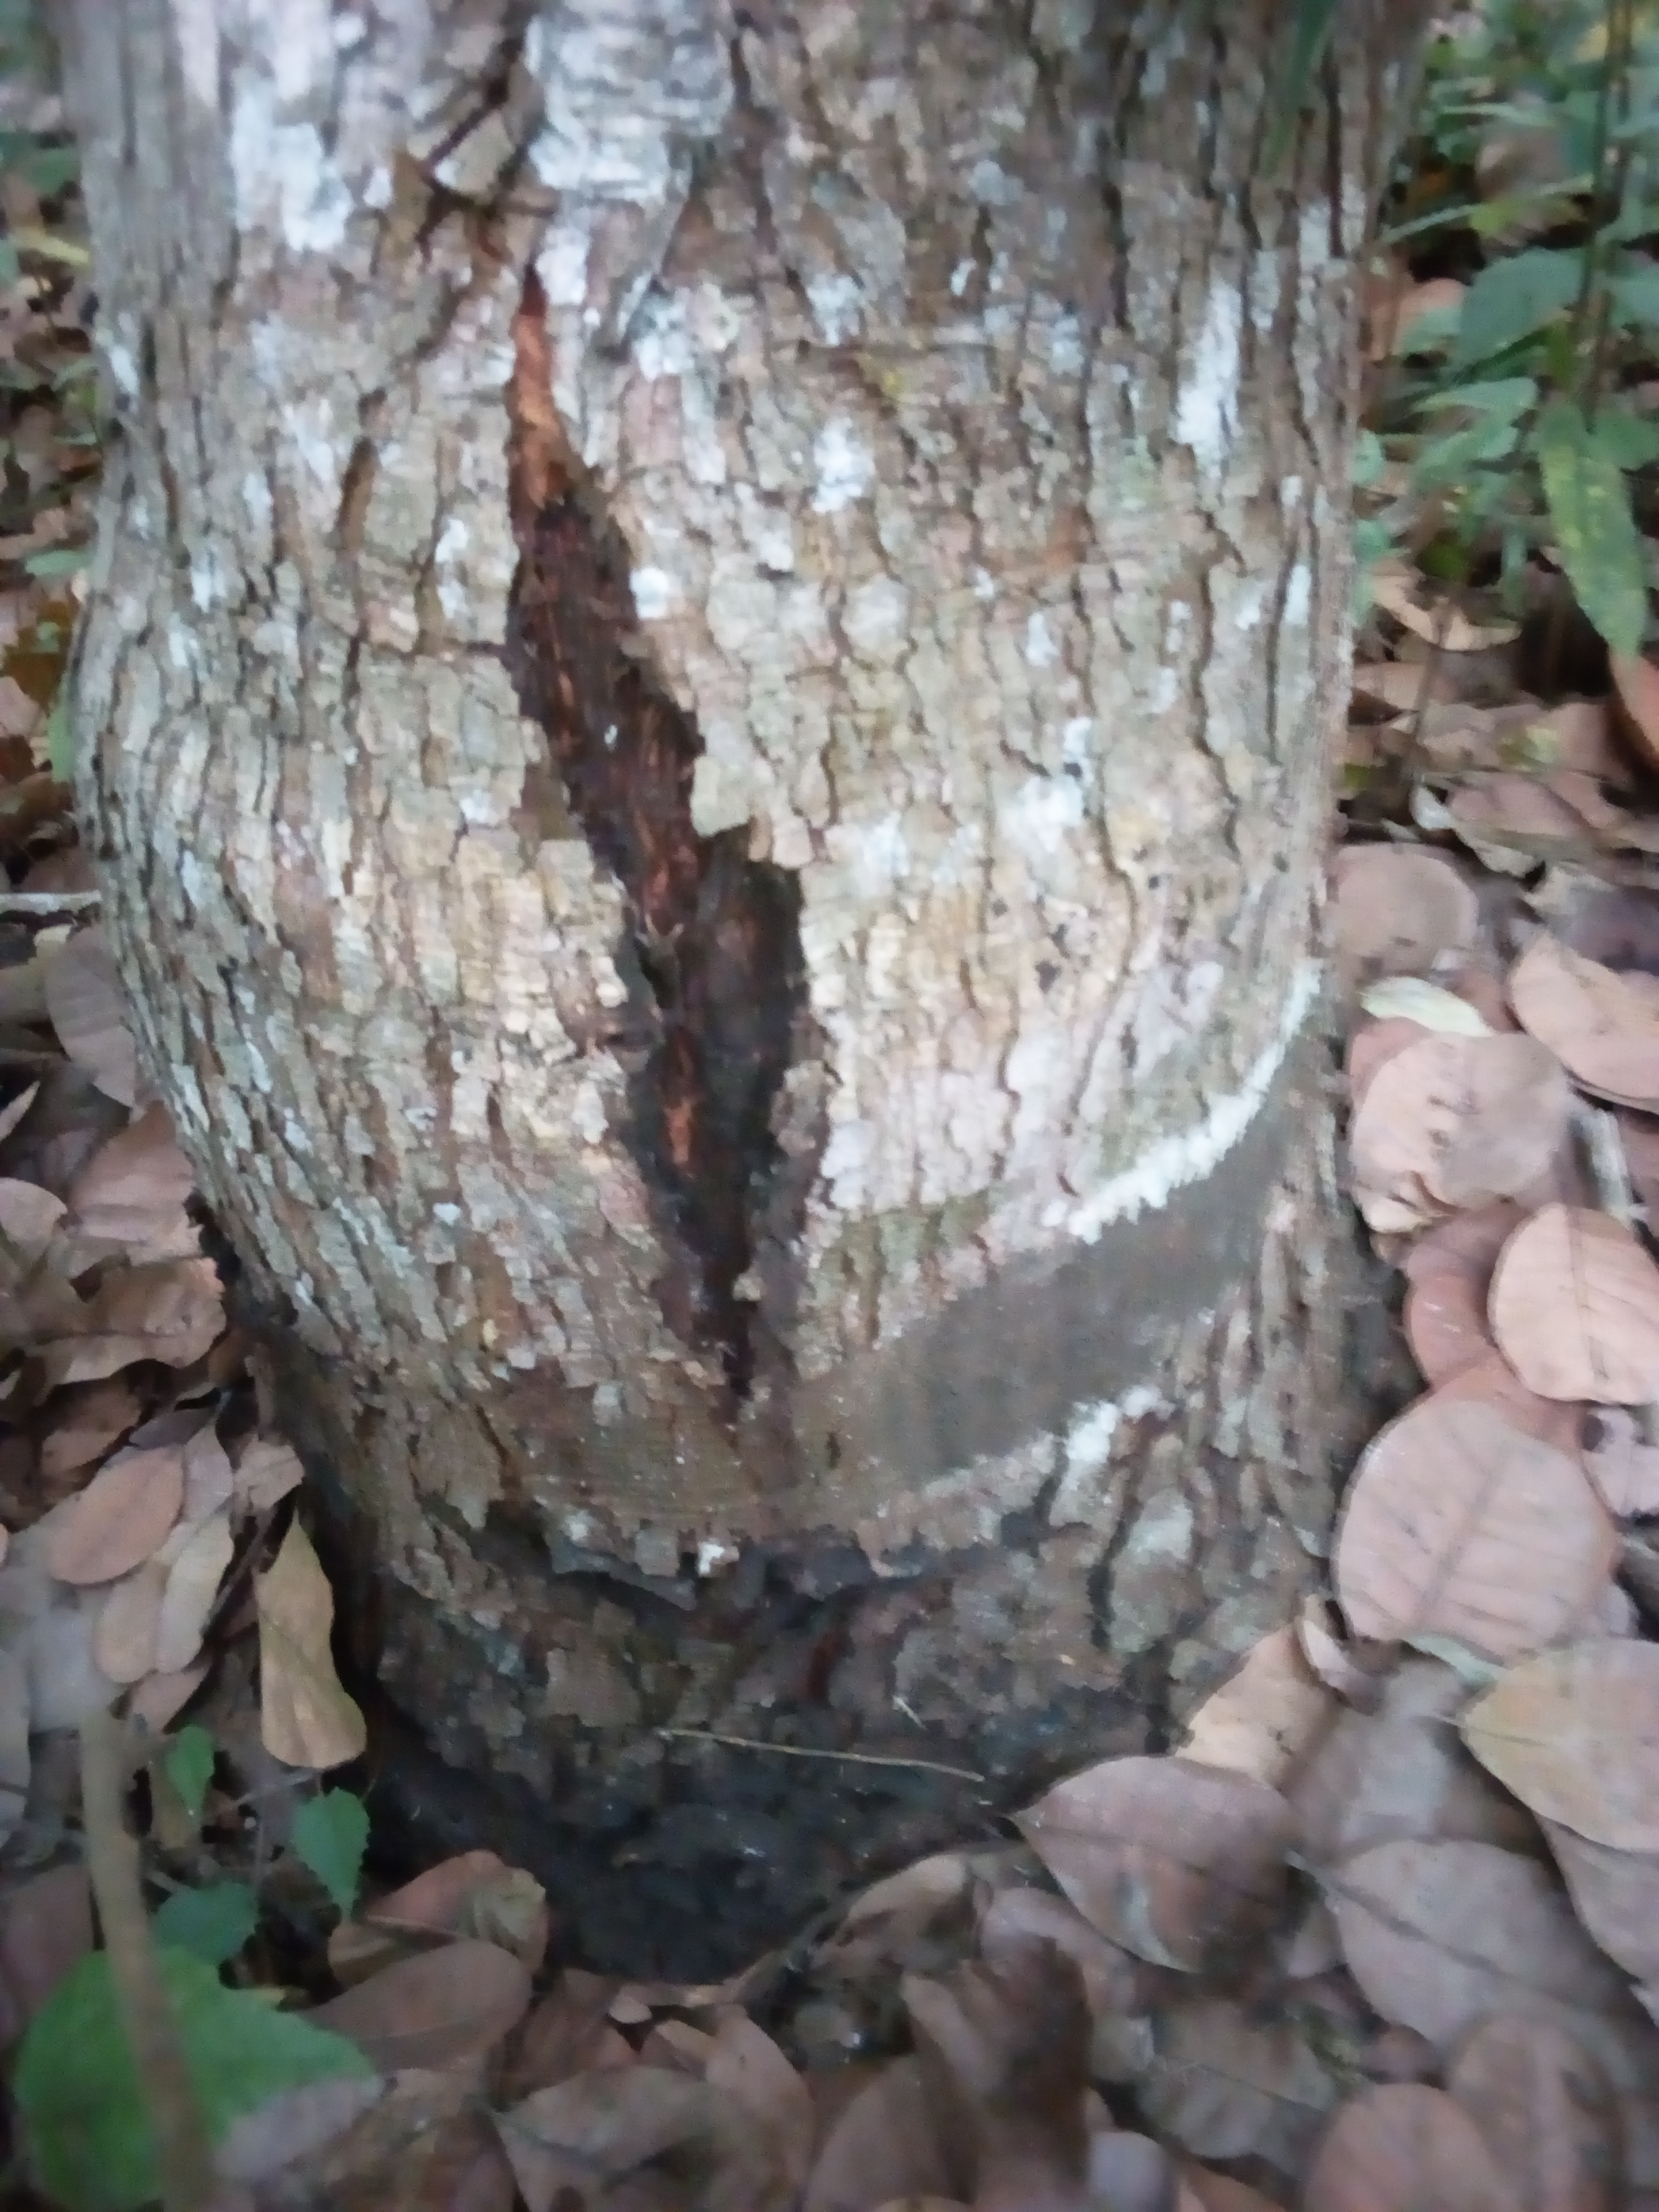Gommose: (474, 388, 850, 1421)
